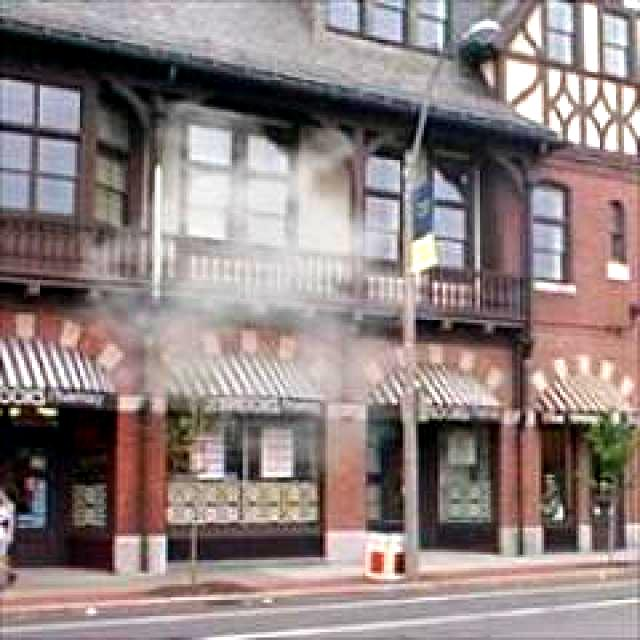no_helmet: (51, 99, 470, 482)
